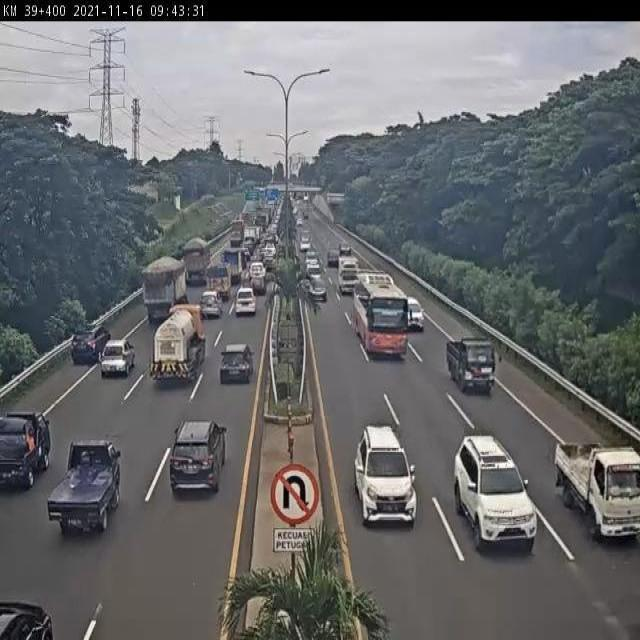Bus: (352, 268, 408, 359)
Car: (452, 437, 540, 552), (354, 423, 418, 527), (168, 418, 228, 495), (70, 324, 111, 366), (219, 342, 254, 384), (100, 339, 136, 378), (200, 290, 223, 320), (234, 286, 256, 317), (306, 274, 327, 303)
Truck: (556, 441, 640, 547), (47, 438, 121, 535), (151, 304, 207, 386), (1, 412, 52, 490), (445, 337, 503, 394), (141, 256, 187, 326), (182, 239, 210, 287), (222, 246, 247, 283)
